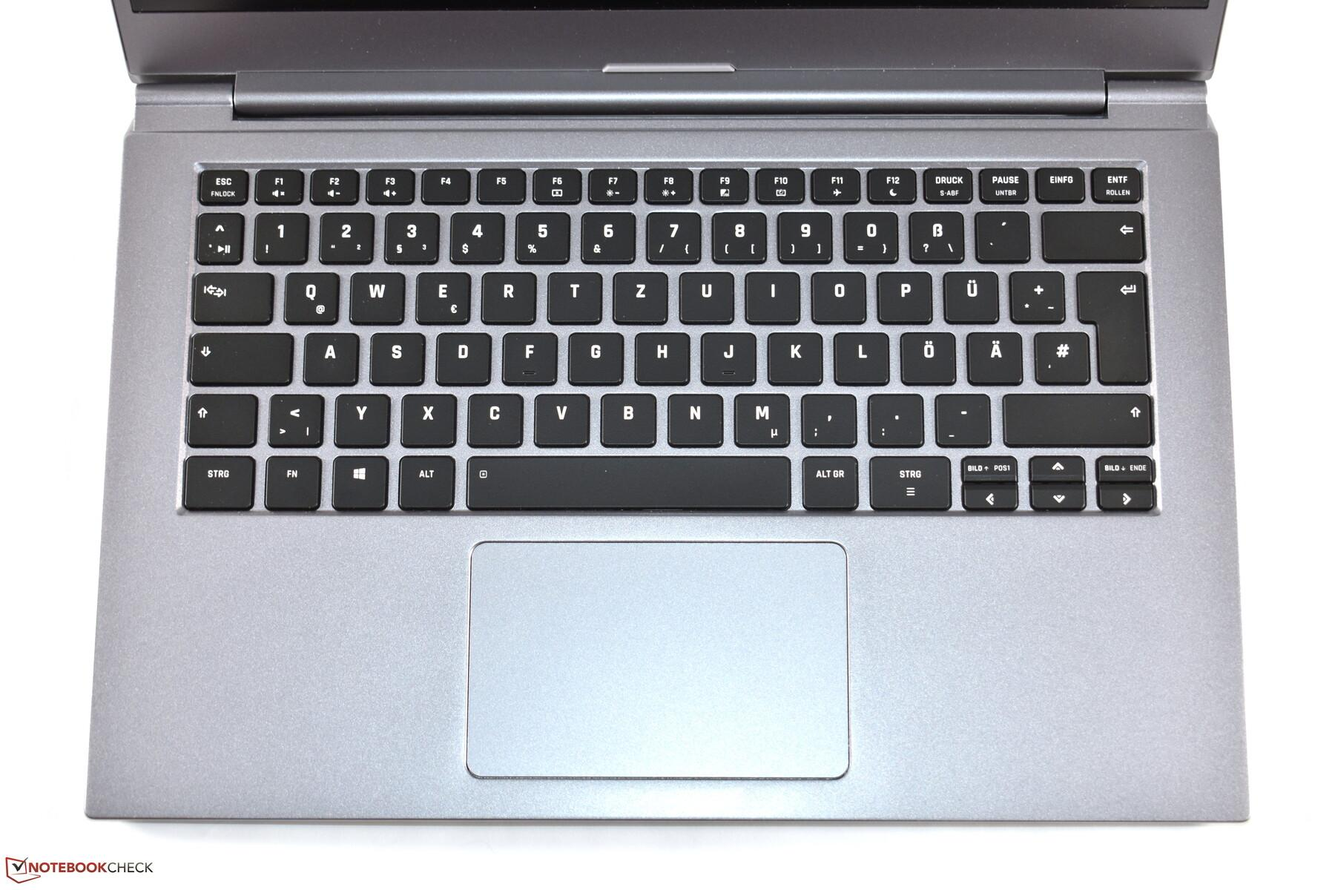0: (840, 207, 897, 260)
1: (251, 208, 307, 261)
2: (315, 208, 372, 260)
3: (380, 207, 438, 261)
4: (446, 208, 504, 260)
5: (512, 208, 570, 260)
6: (578, 208, 635, 260)
7: (643, 208, 700, 260)
8: (708, 208, 765, 260)
9: (774, 207, 831, 260)
a: (300, 328, 357, 383)
accent: (972, 206, 1029, 259)
ae: (963, 327, 1022, 382)
alt-left: (395, 452, 454, 507)
altgr-right: (798, 452, 857, 507)
b: (597, 389, 656, 444)
c: (464, 389, 522, 444)
caret: (193, 207, 242, 262)
comma: (798, 389, 855, 444)
d: (432, 328, 490, 383)
del: (1039, 206, 1143, 260)
e: (412, 267, 469, 321)
enter: (1073, 266, 1147, 383)
f: (498, 328, 556, 382)
g: (565, 328, 622, 382)
h: (631, 328, 688, 382)
hash: (1030, 327, 1088, 381)
i: (742, 266, 799, 320)
j: (698, 327, 754, 383)
k: (764, 327, 822, 382)
keyboard: (162, 156, 1176, 523)
l: (831, 328, 888, 382)
less: (265, 389, 321, 444)
m: (730, 389, 789, 444)
minus: (931, 389, 990, 443)
n: (664, 389, 722, 444)
o: (808, 267, 866, 321)
oe: (897, 328, 955, 382)
p: (874, 267, 932, 320)
plus: (1006, 266, 1064, 320)
point: (864, 389, 923, 443)
q: (280, 267, 337, 321)
r: (478, 267, 535, 321)
s: (366, 329, 423, 383)
shift-left: (182, 389, 255, 445)
shift-lock: (186, 327, 291, 383)
shift-right: (999, 389, 1150, 444)
space: (462, 452, 790, 508)
ss: (906, 207, 963, 260)
strg-left: (179, 450, 254, 507)
strg-right: (866, 451, 952, 508)
t: (544, 267, 601, 321)
tab: (188, 267, 271, 321)
u: (676, 267, 734, 321)
ue: (940, 266, 998, 321)
v: (531, 389, 589, 444)
w: (346, 266, 403, 322)
x: (398, 389, 455, 444)
y: (331, 389, 389, 444)
z: (610, 267, 667, 321)
